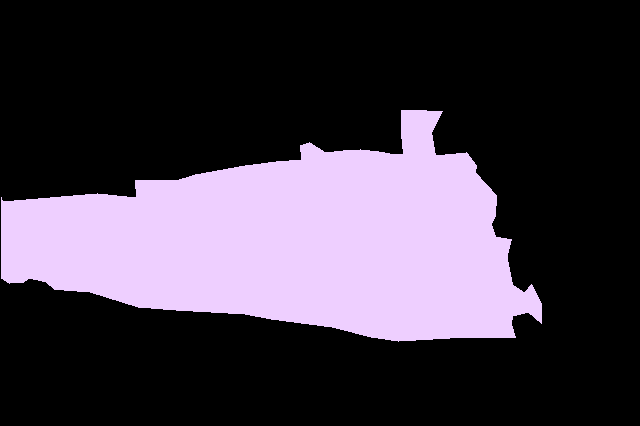Train: (1, 110, 541, 342)
